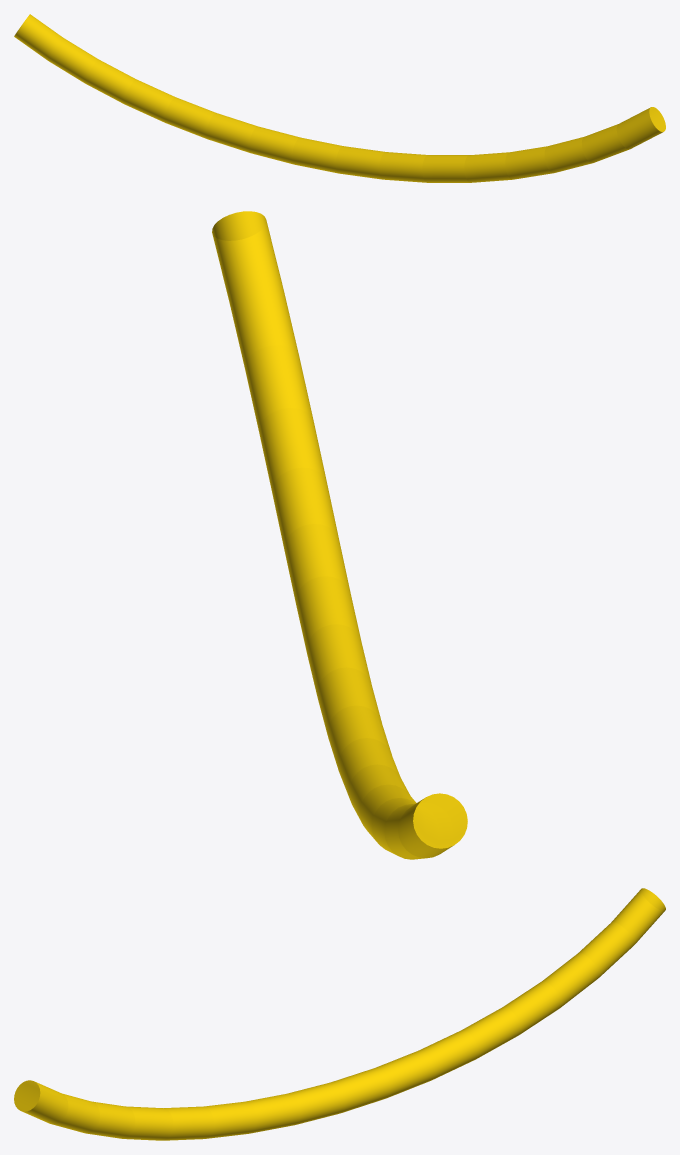
File: Event_421278790_track_32.fbx
The picture shows the model from 3 angles, top to bottom: view 1: azimuth 30°, elevation 25°; view 2: azimuth 150°, elevation 25°; view 3: azimuth 270°, elevation 25°; orthographic projection. The views are drawn at different scales.
Parts seen in each view (by area): view 1: Model; view 2: Model; view 3: Model.
Boxes of the visible parts, x1,y1,x2,y2 form: Model: [14, 14, 665, 182]; Model: [212, 211, 467, 859]; Model: [14, 888, 665, 1140].
Bounding box in the file's own units: 0.6426 × 0.1819 × 0.7993.
